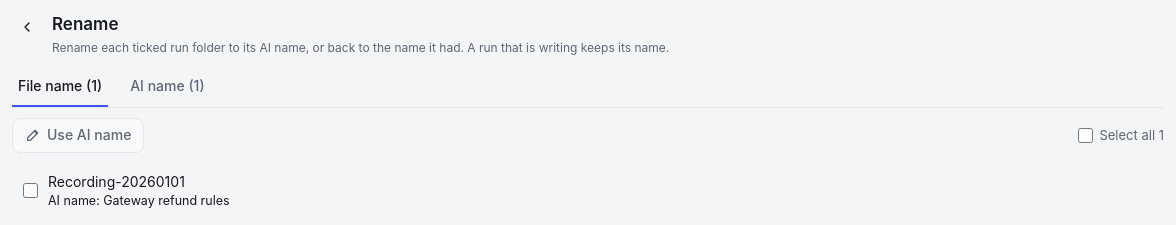
Test case: RenameView › offers a run already under its AI name only the way back, never its AI name again defect
Click the tab "AI name (1)". click: x=167, y=87
box: [124,67,211,107]
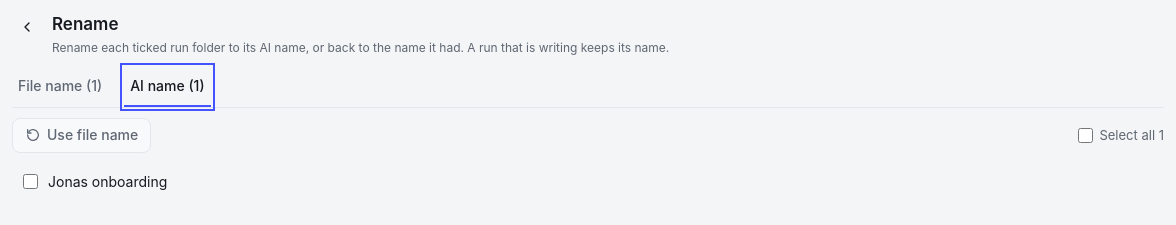
Expected: the text "Recording-20260101" is gone
Click the checkbox named "tick every run shown". click: x=1086, y=135
box: [1078,128,1094,143]
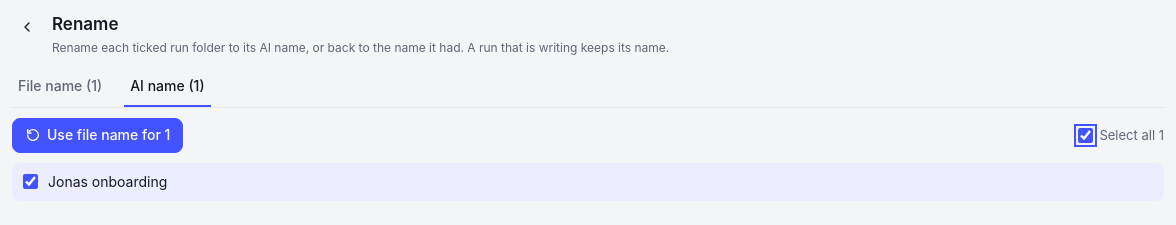
Expected: the button "Use AI name" is not shown
Expected: the button "Use file name for 1" is enabled, [12,118,183,152]
